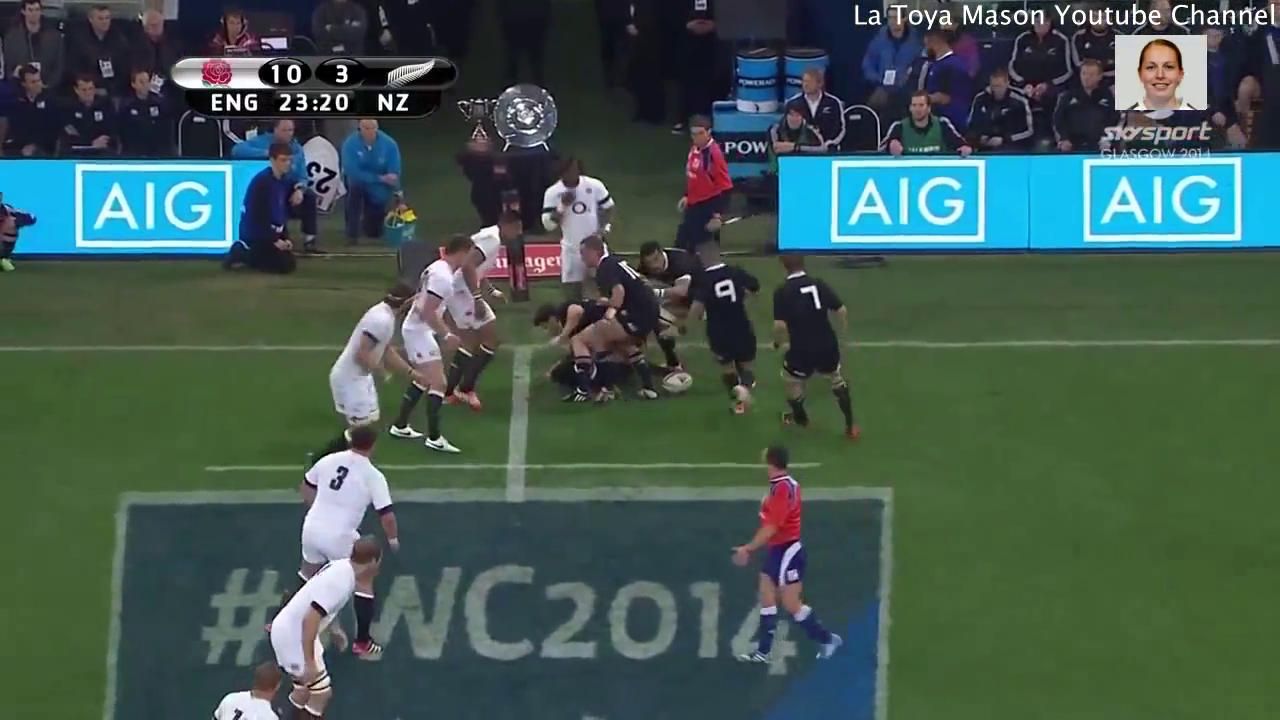ball: (661, 363, 693, 396)
player: (721, 437, 857, 674), (289, 424, 406, 666), (275, 531, 393, 720), (764, 245, 874, 444), (386, 230, 478, 456), (443, 208, 530, 422), (317, 276, 421, 447), (565, 236, 667, 408), (677, 238, 768, 416), (536, 156, 625, 307), (665, 107, 744, 273), (205, 653, 285, 720), (633, 236, 705, 305)
